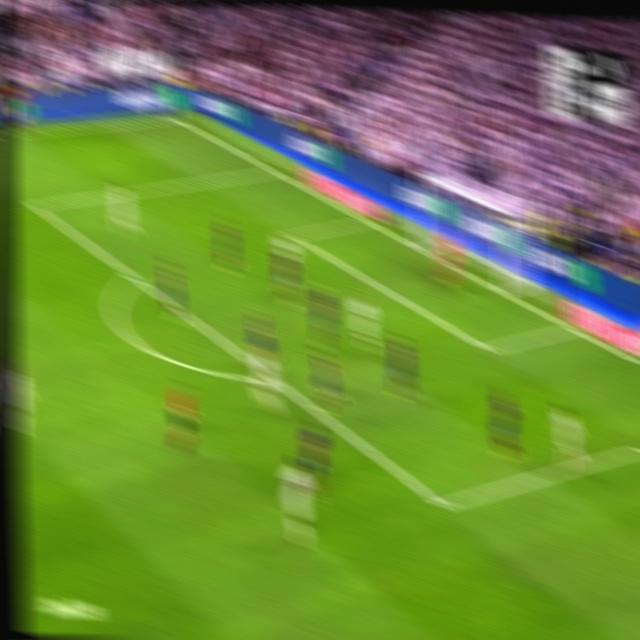bigarea_bottom_inner: (430, 487, 453, 522)
bigarea_top_inner: (27, 194, 45, 217)
bigarea_top_outter: (263, 160, 281, 178)
corner: (165, 109, 184, 125)
smallarea_bottom_inner: (478, 336, 496, 360)
smallarea_bottom_outter: (562, 319, 579, 337)
smallarea_top_inner: (285, 223, 302, 245)
top_arc_area_intersection: (125, 264, 142, 287)
